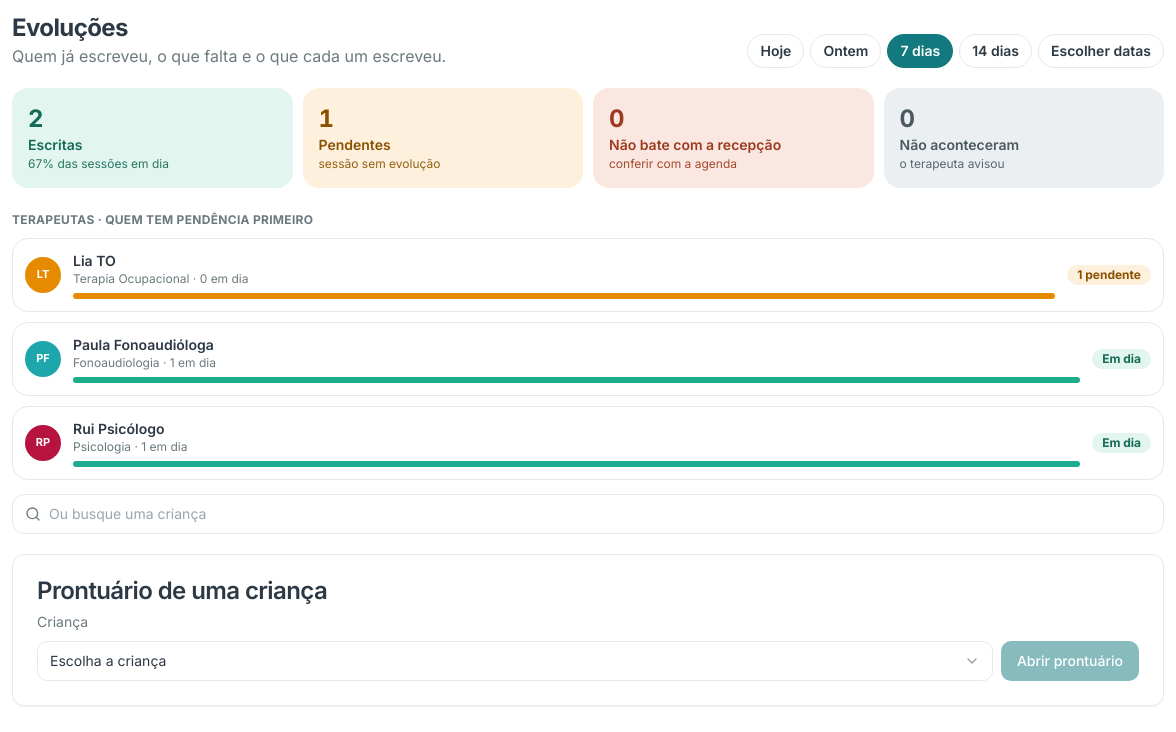
no celular, a página abre pelos terapeutas, e tocar num deles mostra as sessões dele
What coordinates should you click on to do the following:
click the button "PF Paula Fonoaudióloga Fonoaudiologia · 1 em dia Em dia"
I would click on:
 (43, 358)
Its box is [12, 322, 1164, 396].
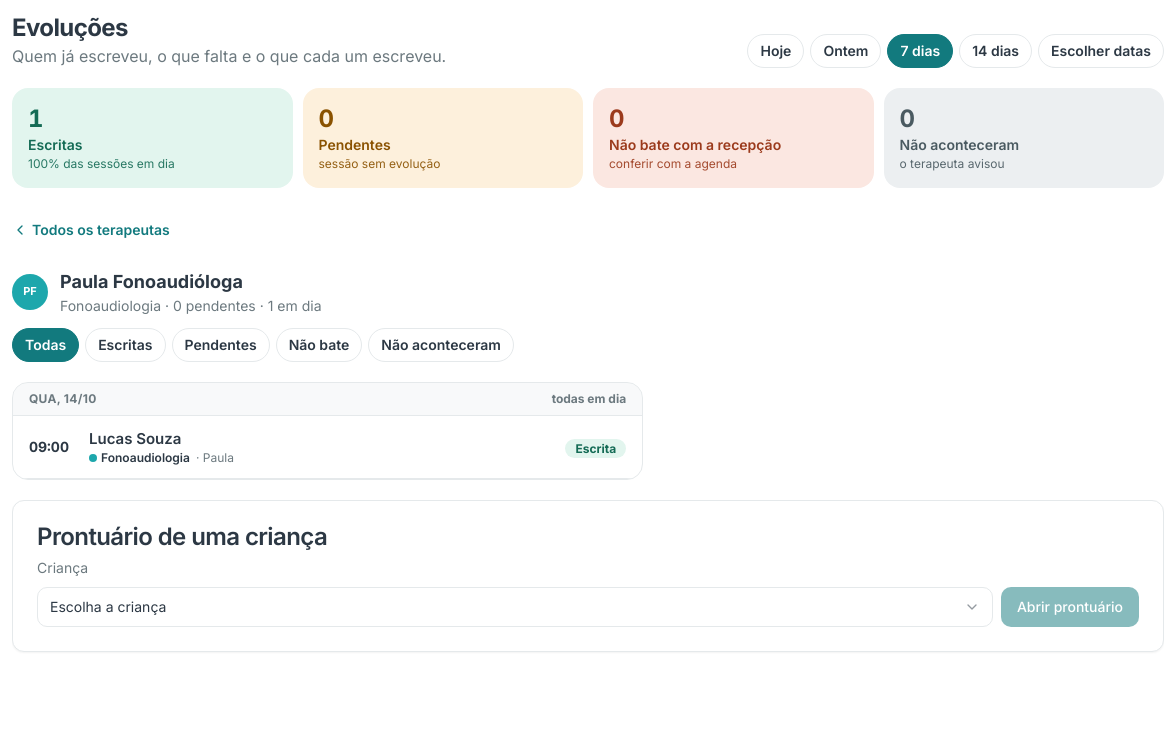
Expected: the button "09:00 Lucas Souza Fonoaudiologia · Paula Escrita" is shown, [13, 416, 642, 479]
What coordinates should you click on to do the following:
click the button "Todos os terapeutas"
I would click on:
 (91, 230)
Its box is [12, 212, 170, 248].
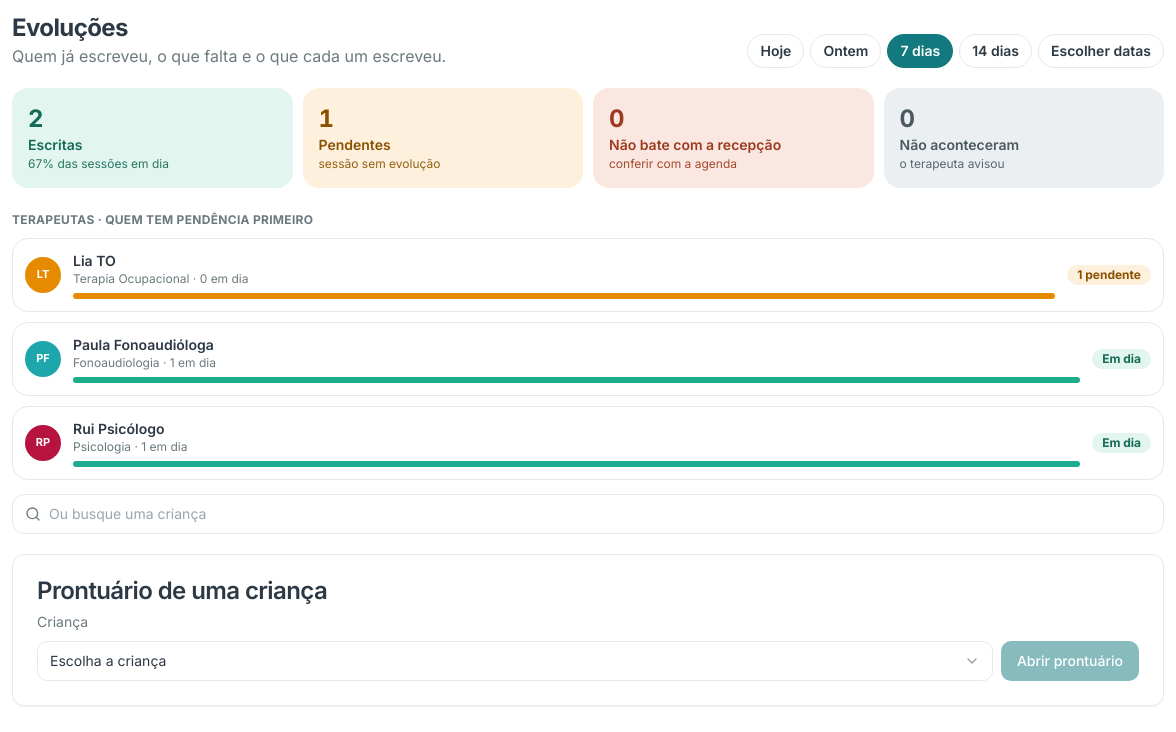
Expected: the element "Terapeutas" is shown, [12, 212, 1164, 534]
